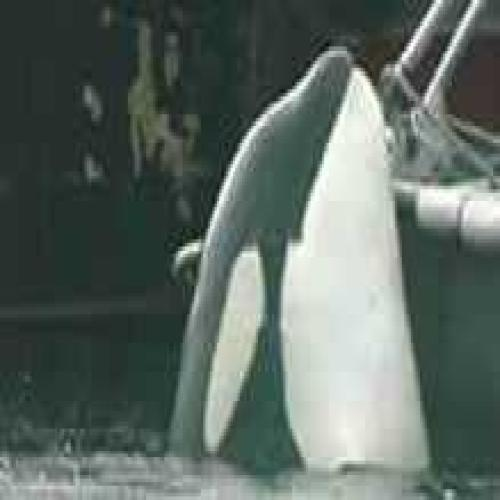killer_whale-endangered: (155, 34, 476, 489)
